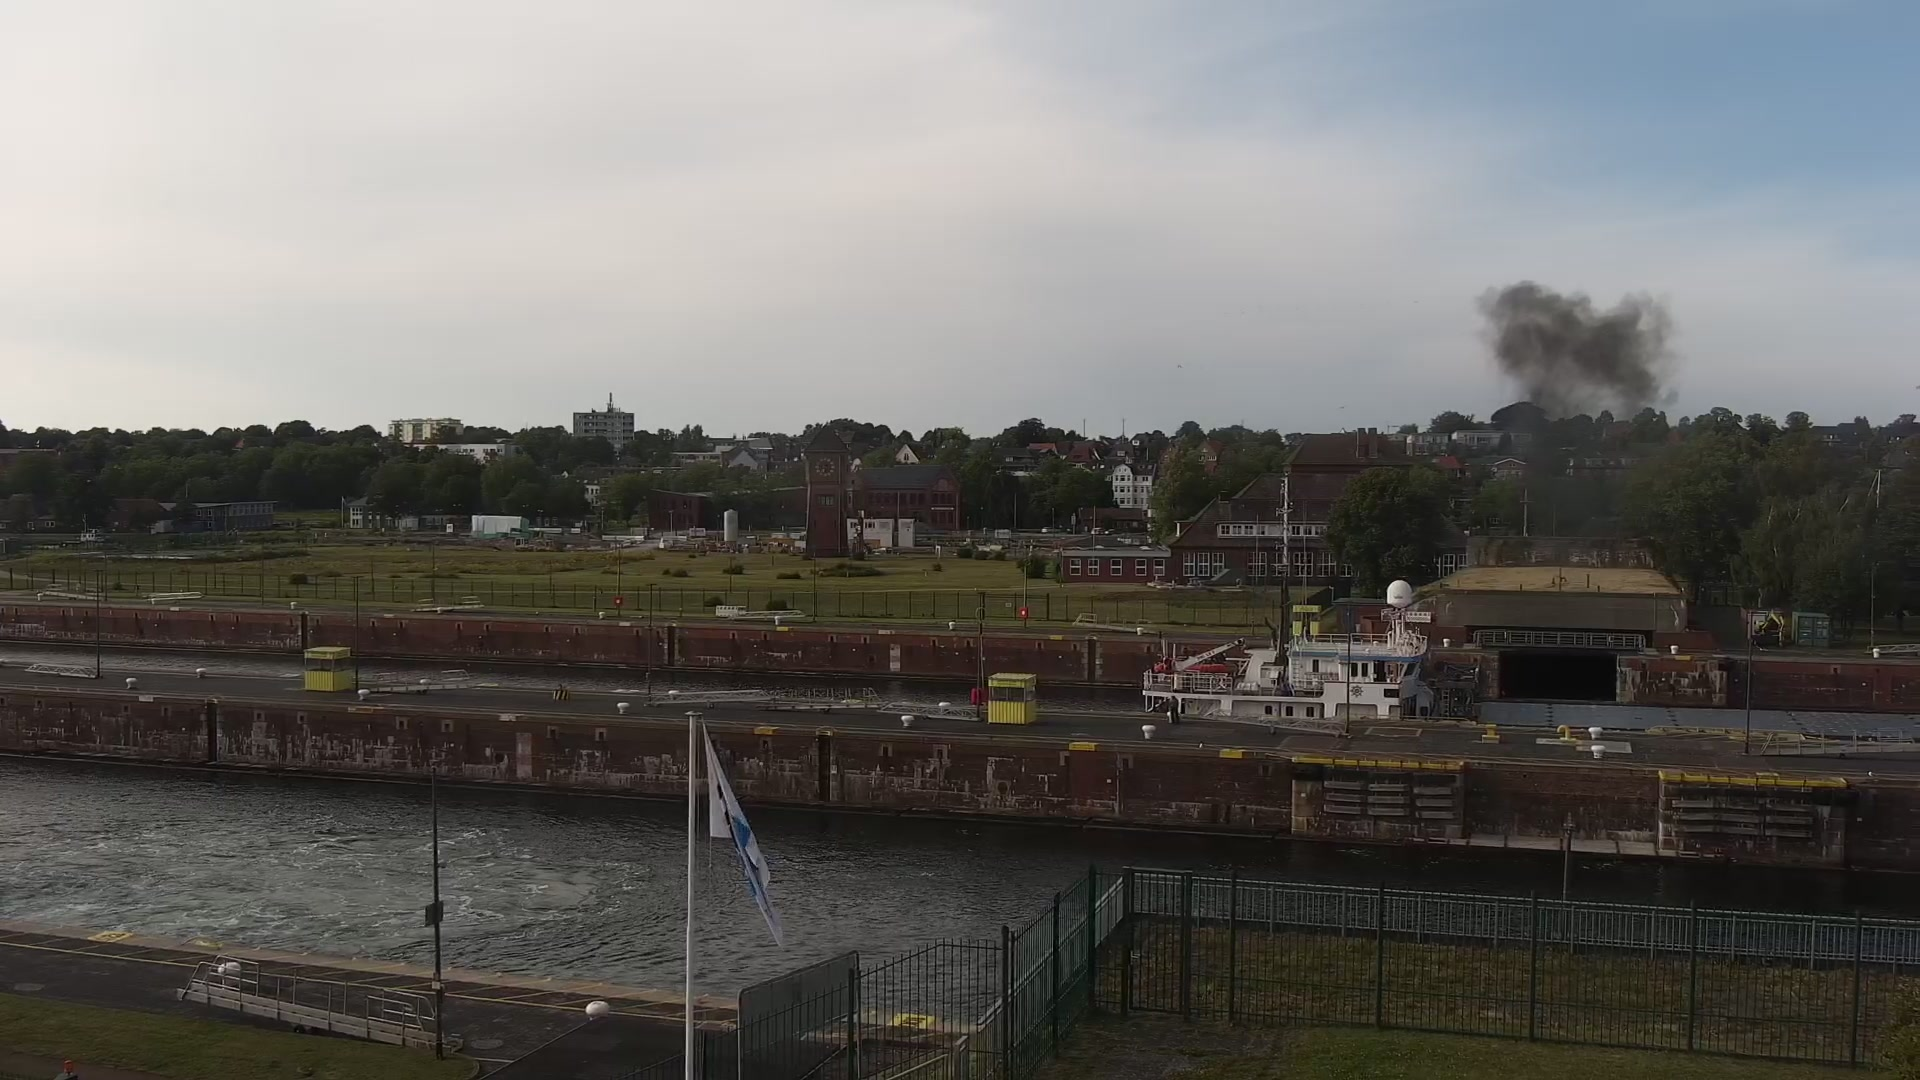human: (1169, 694, 1179, 723)
land: (1749, 608, 1785, 648), (514, 536, 534, 550), (1105, 528, 1117, 534)
sea: (1140, 468, 1919, 739)
